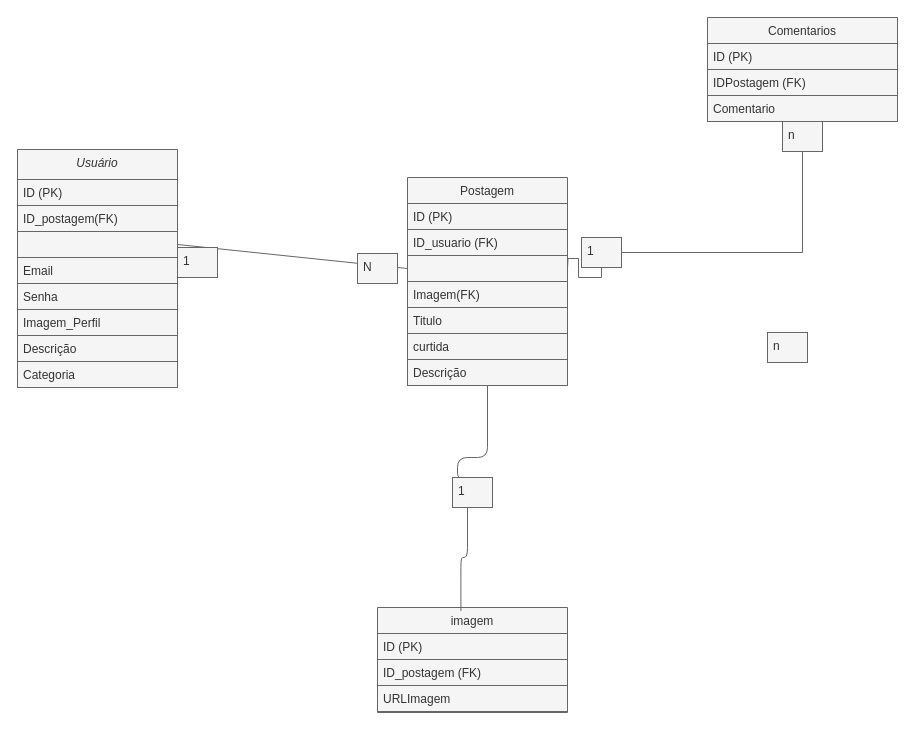
The diagram is 915 pixels wide and 732 high, and some of its shapes have lost their labels. Here are the shapes that lost their labels. From the top down, the centre of each, then its label:
point 97,244: Nome
point 487,268: ID_Comentario (FK)
